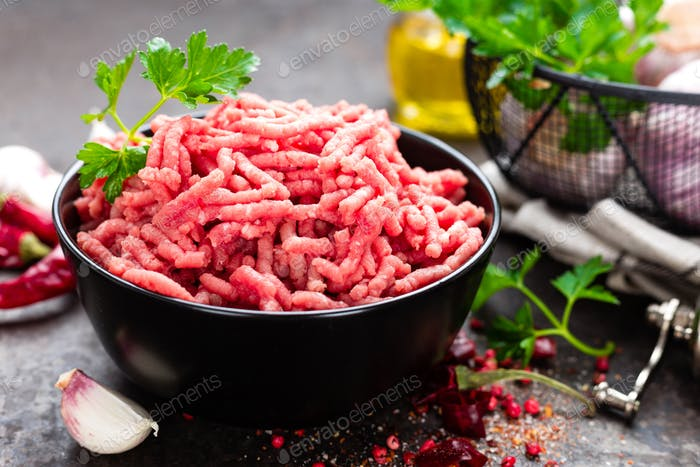ground_beef: (103, 103, 447, 309)
